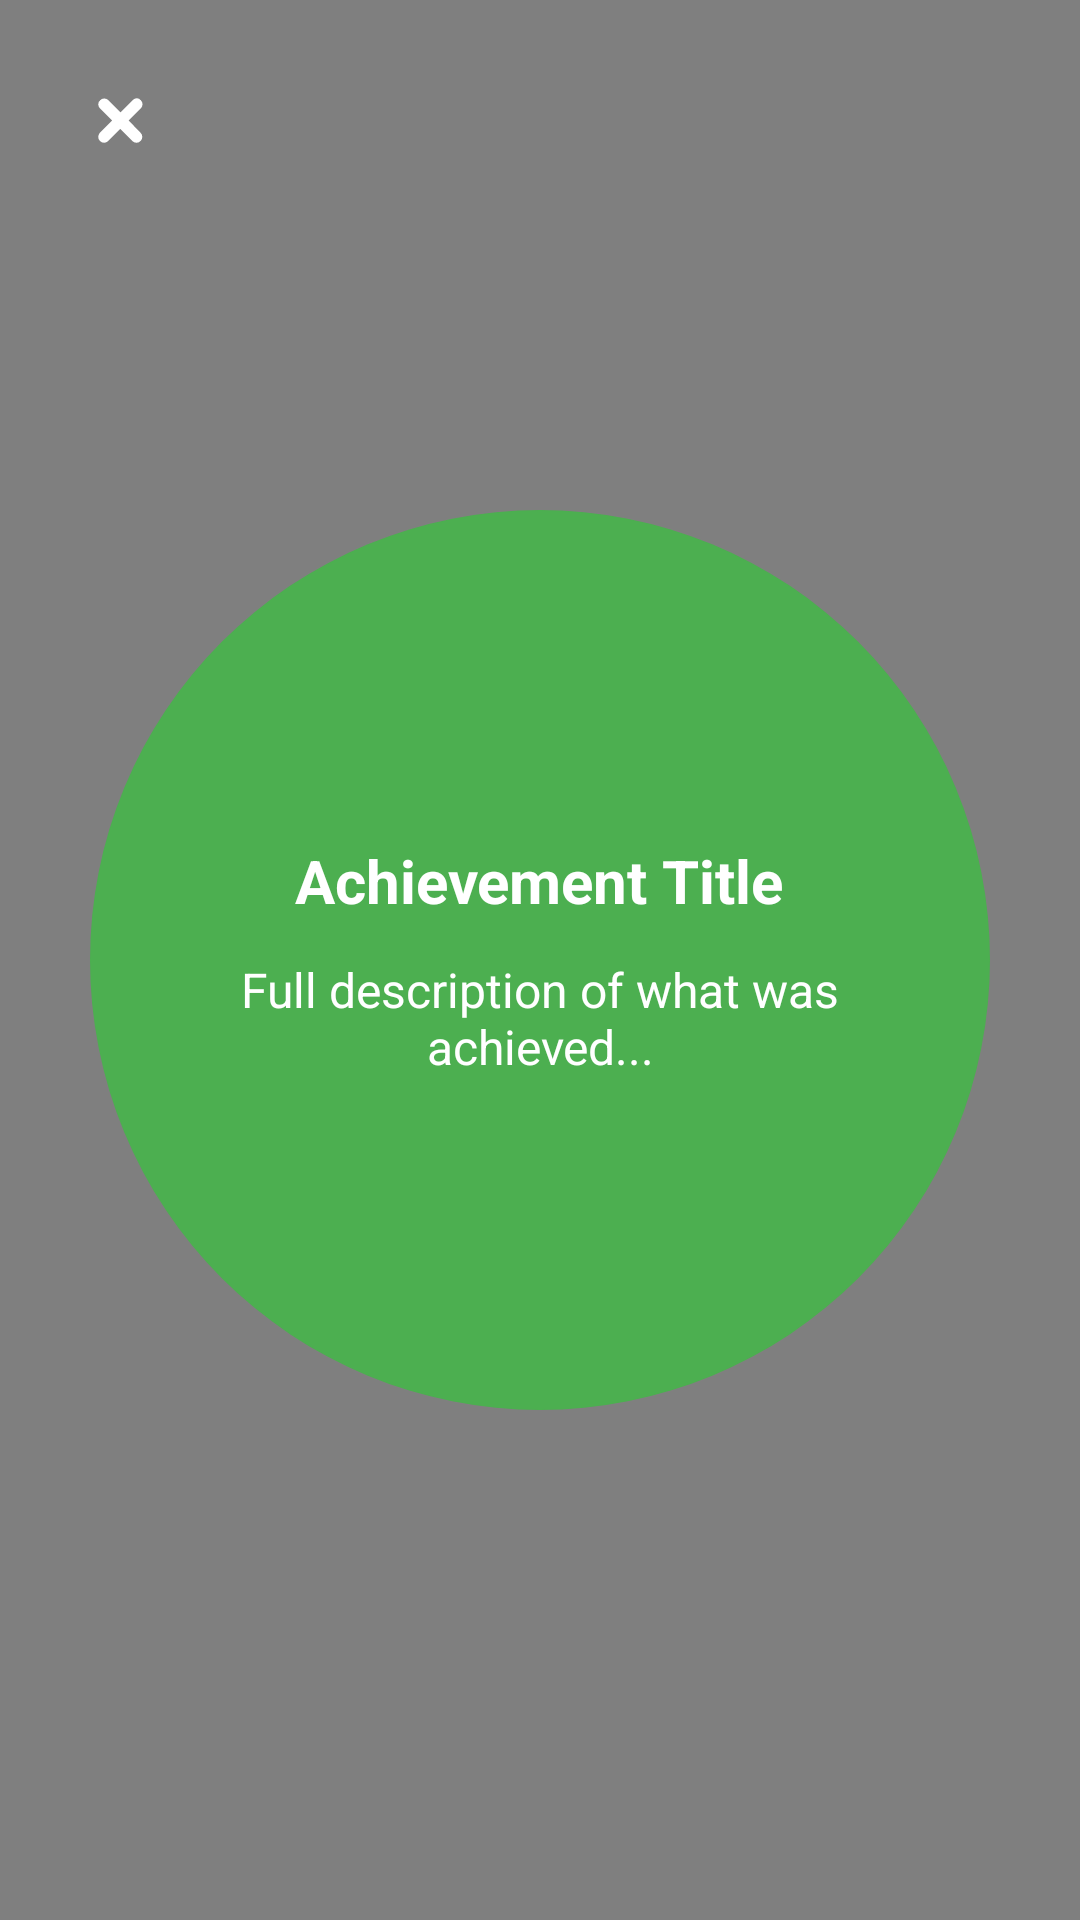

Locate icon controls on the screen. Image size 1080w x 1920h, boxes as (left=x1, top=y1, right=x2, bottom=y2).
Close: (left=98, top=98, right=143, bottom=143)
